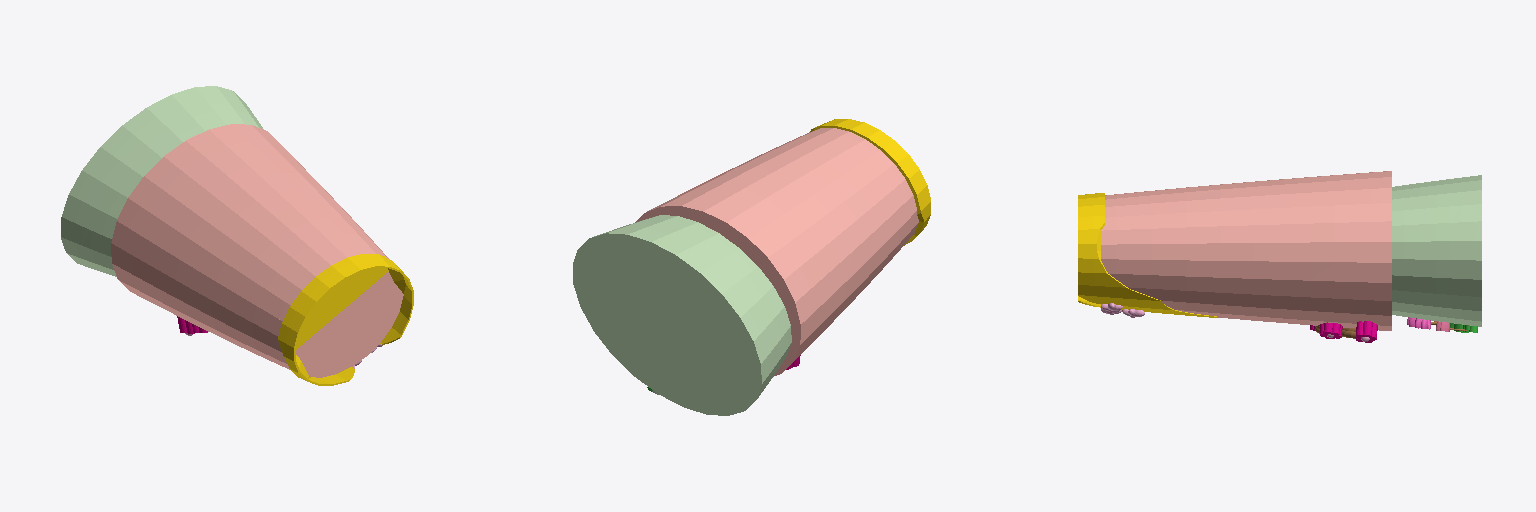
File: tinker.obj
The picture shows the model from 3 angles: view 1: azimuth 30°, elevation 25°; view 2: azimuth 150°, elevation 25°; view 3: azimuth 270°, elevation 25°; orthographic projection.
Visible parts, largest first — view 1: obj_0; view 2: obj_0; view 3: obj_0.
Part boxes in pixels (bbox=[...]): obj_0: bbox=[61, 86, 413, 385]; obj_0: bbox=[573, 119, 930, 415]; obj_0: bbox=[1078, 171, 1481, 342].
Bounding box in the file's own units: 41.95 × 36.15 × 77.31.